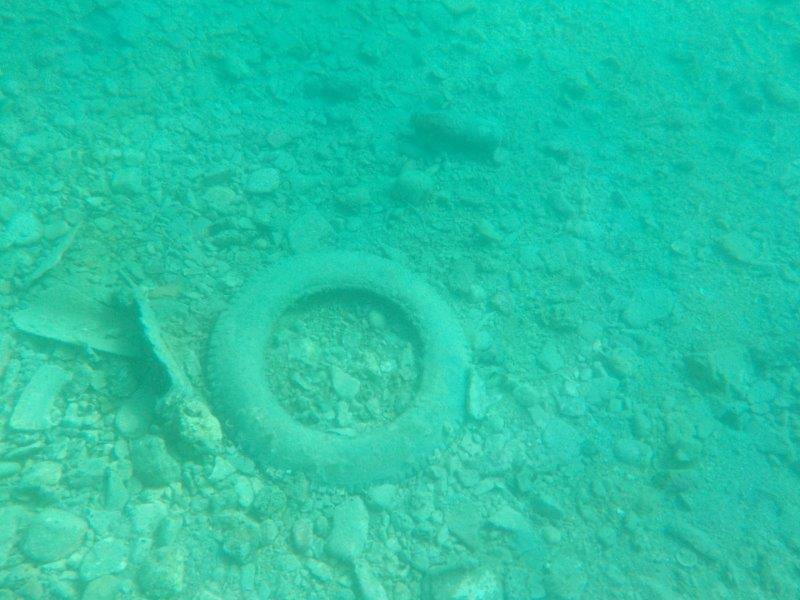bottle: (397, 103, 512, 163)
tire: (199, 242, 479, 491)
